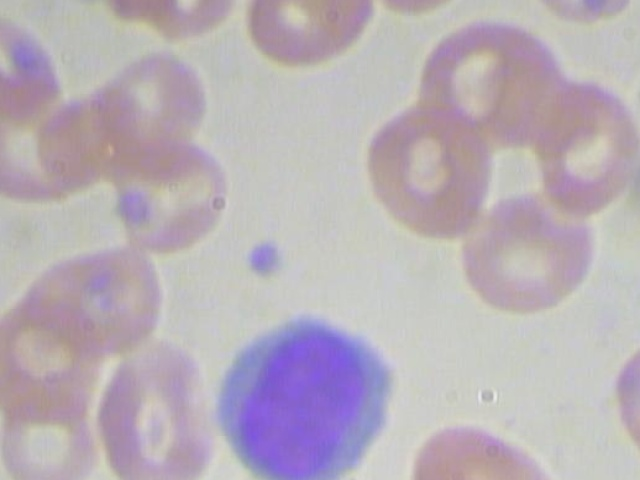Platelets: (238, 232, 293, 281)
RBC: (359, 101, 503, 242), (91, 339, 228, 480), (457, 180, 602, 313), (1, 240, 166, 355), (102, 130, 232, 258), (531, 78, 640, 214), (407, 415, 575, 480), (0, 369, 98, 480), (239, 0, 379, 75), (608, 331, 640, 470)
WBC: (197, 308, 411, 480)
